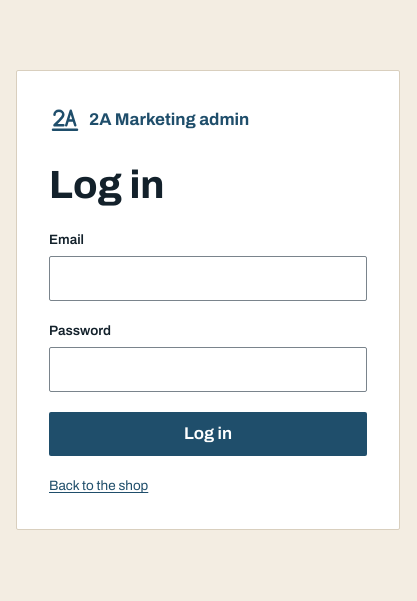
Test: admin login › shows the server message when rate limited
Type "owner@example.com" into the field labelled "Email" at (208,279), box [49, 256, 367, 301]
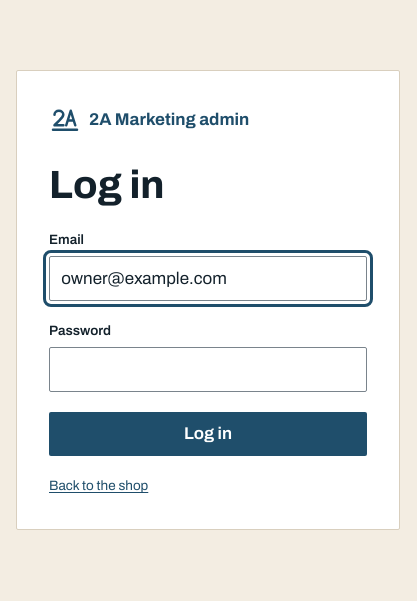
Type "pw" into the password field labelled "Password" at (208,370), box [49, 347, 367, 392]
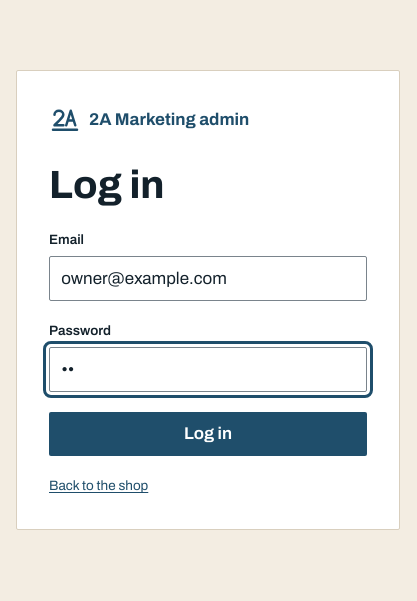
Click the button "Log in" at (208,434), box [49, 412, 367, 456]
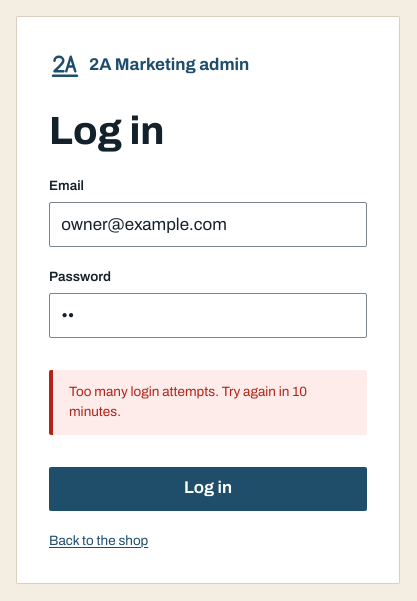
Now the message reads "Too many login attempts. Try again in 10 minutes.", box [69, 384, 307, 419]
